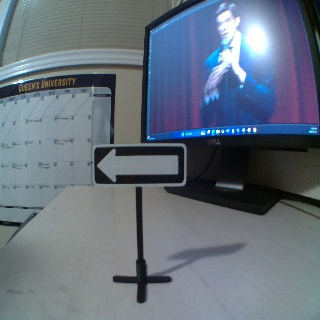sign_oneway_left: (92, 143, 185, 184)
